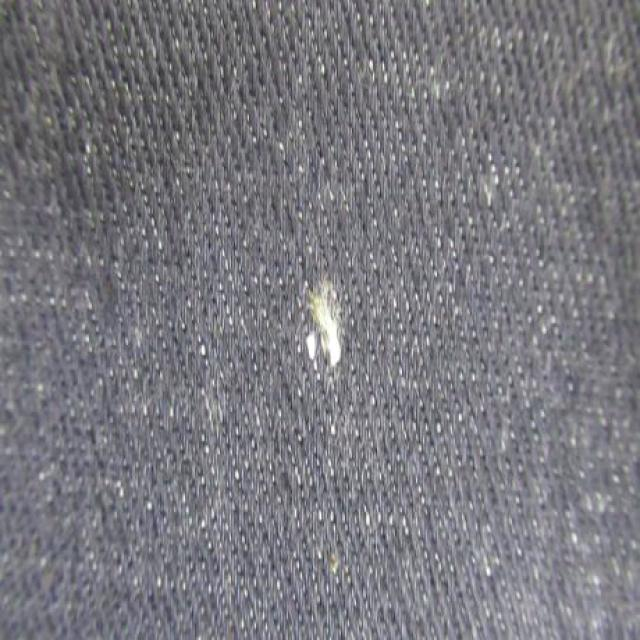Thread_other: (200, 158, 406, 446)
